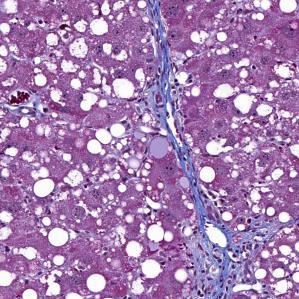fibrosis: (179, 215, 256, 299), (149, 71, 190, 184)
